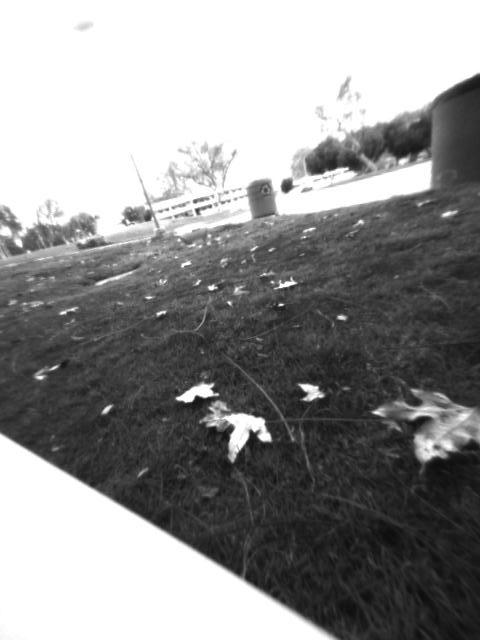trashcan: (243, 177, 280, 219)
